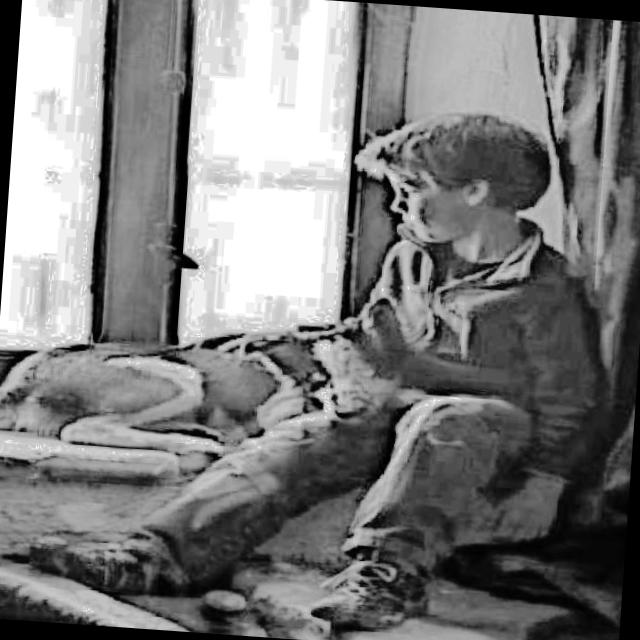Dog: (0, 260, 419, 481)
Person: (26, 74, 615, 640)
